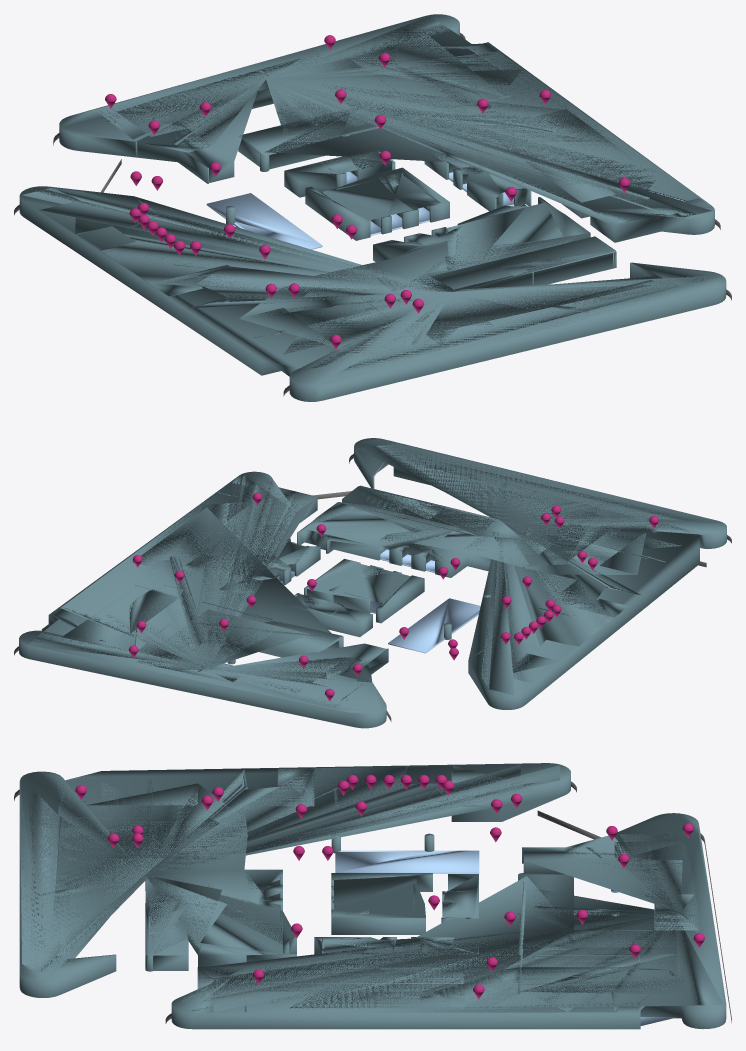
3 renders of one model, top to bottom at view 1: azimuth 30°, elevation 25°; view 2: azimuth 150°, elevation 25°; view 3: azimuth 270°, elevation 25°, orthographic. The views are drawn at different scales.
Visible parts, largest first — view 1: Layer_________, Layer_________001; view 2: Layer_________, Layer_________001; view 3: Layer_________, Layer_________001, Shape001.
Boxes of the visible parts, x1,y1,x2,y2 form: Layer_________: [19, 14, 726, 401]; Layer_________001: [206, 161, 513, 249]; Layer_________: [19, 438, 726, 728]; Layer_________001: [227, 549, 480, 664]; Layer_________: [19, 763, 726, 1029]; Layer_________001: [335, 850, 677, 1025]; Shape001: [14, 781, 731, 1023].
Size of the model in its own units: 51.89 by 3.58 by 61.69.
